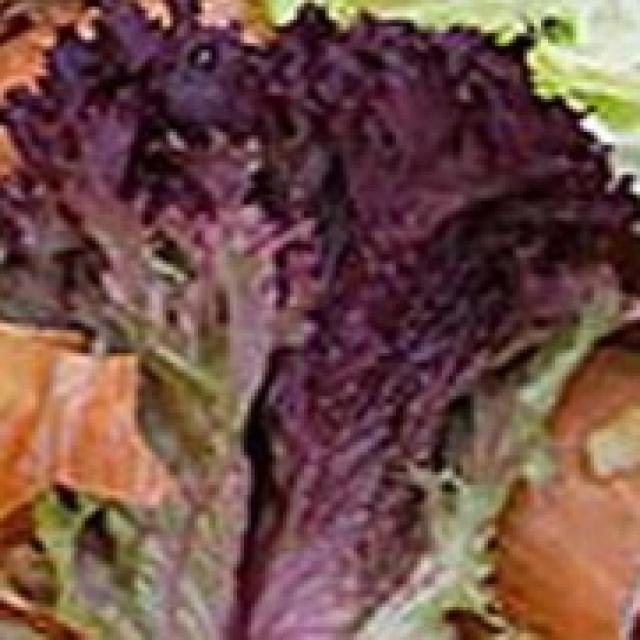food waste: (14, 0, 636, 610)
